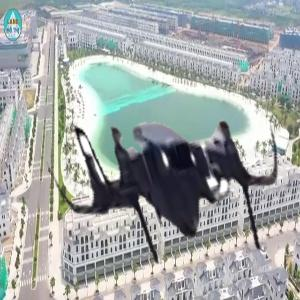drone: (50, 55, 291, 296)
